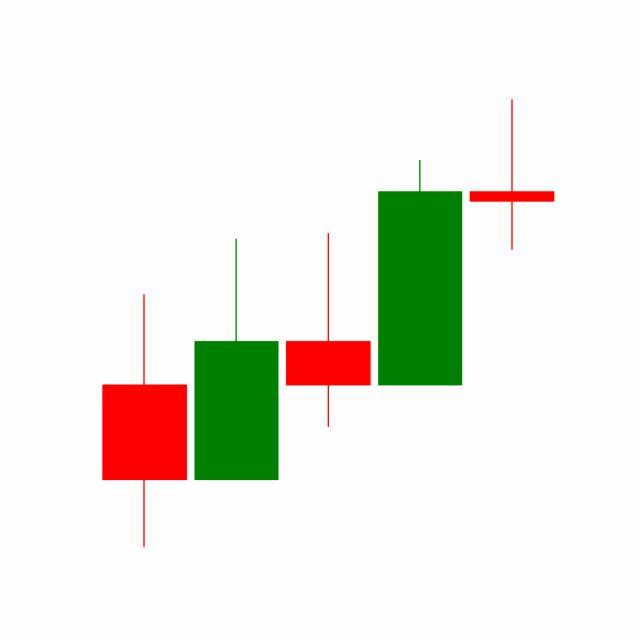Spinning Top: (466, 98, 559, 253)
